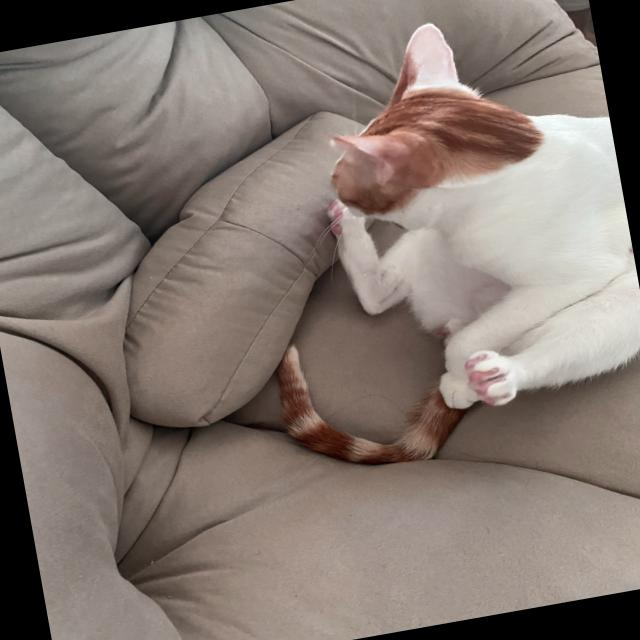cat1: (297, 0, 640, 469)
